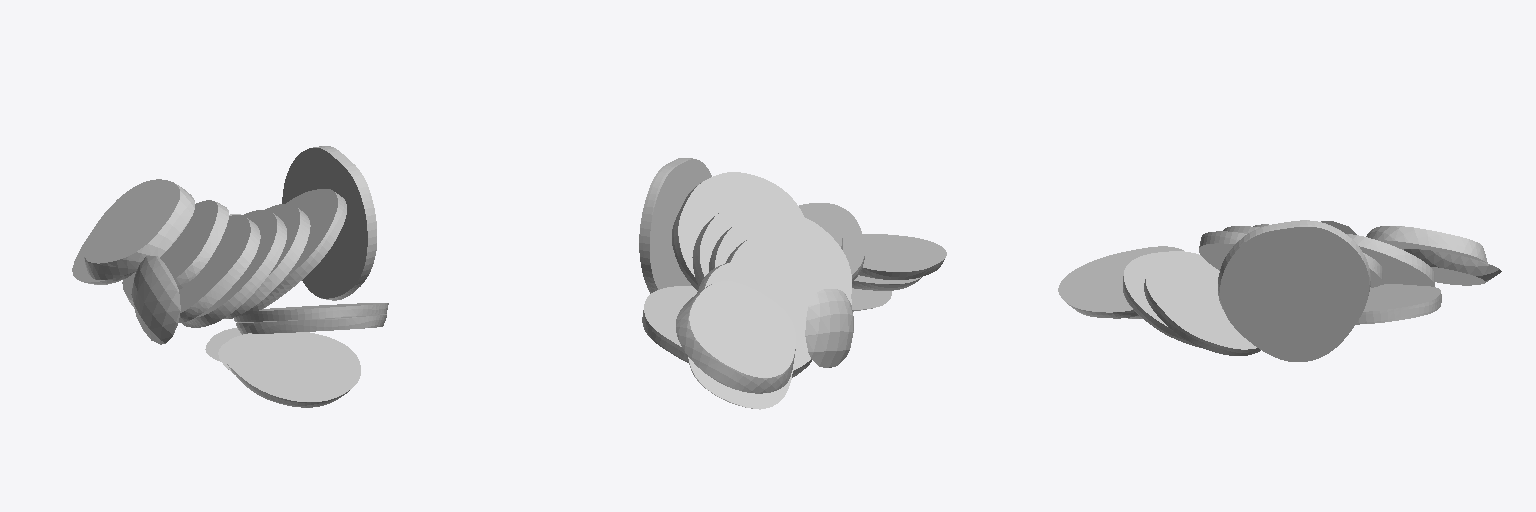
File: patate_pot.obj
3 views of the same model, side by side, from view 1: azimuth 30°, elevation 25°; view 2: azimuth 150°, elevation 25°; view 3: azimuth 270°, elevation 25° (orthographic).
Visible parts, largest first — view 1: Cube.004_Cube.006, Cube.006_Cube.008, Cube.013_Cube.015, Cube.011_Cube.013, Cube.007_Cube.009, Cube.012_Cube.014, Cube.008_Cube.010, Cube.015_Cube.017, Cube.009_Cube.011, Cube.003_Cube.005, Cube.002_Cube.004, Cube.014_Cube.016; view 2: Cube.013_Cube.015, Cube.006_Cube.008, Cube.007_Cube.009, Cube.011_Cube.013, Cube.012_Cube.014, Cube.004_Cube.006, Cube.015_Cube.017, Cube.008_Cube.010, Cube.005_Cube.007, Cube.009_Cube.011, Cube.002_Cube.004, Cube.014_Cube.016 (+3 smaller); view 3: Cube.006_Cube.008, Cube.003_Cube.005, Cube.004_Cube.006, Cube.005_Cube.007, Cube.013_Cube.015, Cube.012_Cube.014, Cube.014_Cube.016, Cube.002_Cube.004, Cube.007_Cube.009.
Part boxes in pixels (x1,y1,x2,y2): Cube.004_Cube.006: (222,332,360,407); Cube.006_Cube.008: (282,146,376,300); Cube.013_Cube.015: (84,179,194,279); Cube.011_Cube.013: (178,215,260,322); Cube.007_Cube.009: (248,189,346,310); Cube.012_Cube.014: (122,200,228,306); Cube.008_Cube.010: (182,210,286,327); Cube.015_Cube.017: (131,256,180,344); Cube.009_Cube.011: (224,204,310,318); Cube.003_Cube.005: (234,303,388,321); Cube.002_Cube.004: (236,314,386,334); Cube.014_Cube.016: (72,236,135,284); Cube.013_Cube.015: (676,281,795,393); Cube.006_Cube.008: (639,158,711,293); Cube.007_Cube.009: (672,172,803,290); Cube.011_Cube.013: (725,229,851,304); Cube.012_Cube.014: (697,262,811,377); Cube.004_Cube.006: (859,234,946,279); Cube.015_Cube.017: (805,289,853,367); Cube.008_Cube.010: (709,211,851,293); Cube.005_Cube.007: (642,286,697,362); Cube.009_Cube.011: (692,201,803,285); Cube.002_Cube.004: (799,203,864,281); Cube.014_Cube.016: (688,357,792,409); Cube.006_Cube.008: (1218,220,1370,361); Cube.003_Cube.005: (1144,256,1260,355); Cube.004_Cube.006: (1058,246,1183,318); Cube.005_Cube.007: (1356,284,1441,324); Cube.013_Cube.015: (1366,226,1487,262); Cube.012_Cube.014: (1347,234,1434,286); Cube.014_Cube.016: (1404,249,1501,285); Cube.002_Cube.004: (1123,251,1203,348); Cube.007_Cube.009: (1199,231,1246,270).
Size of the model in its own units: 3.37 by 2.57 by 6.81.